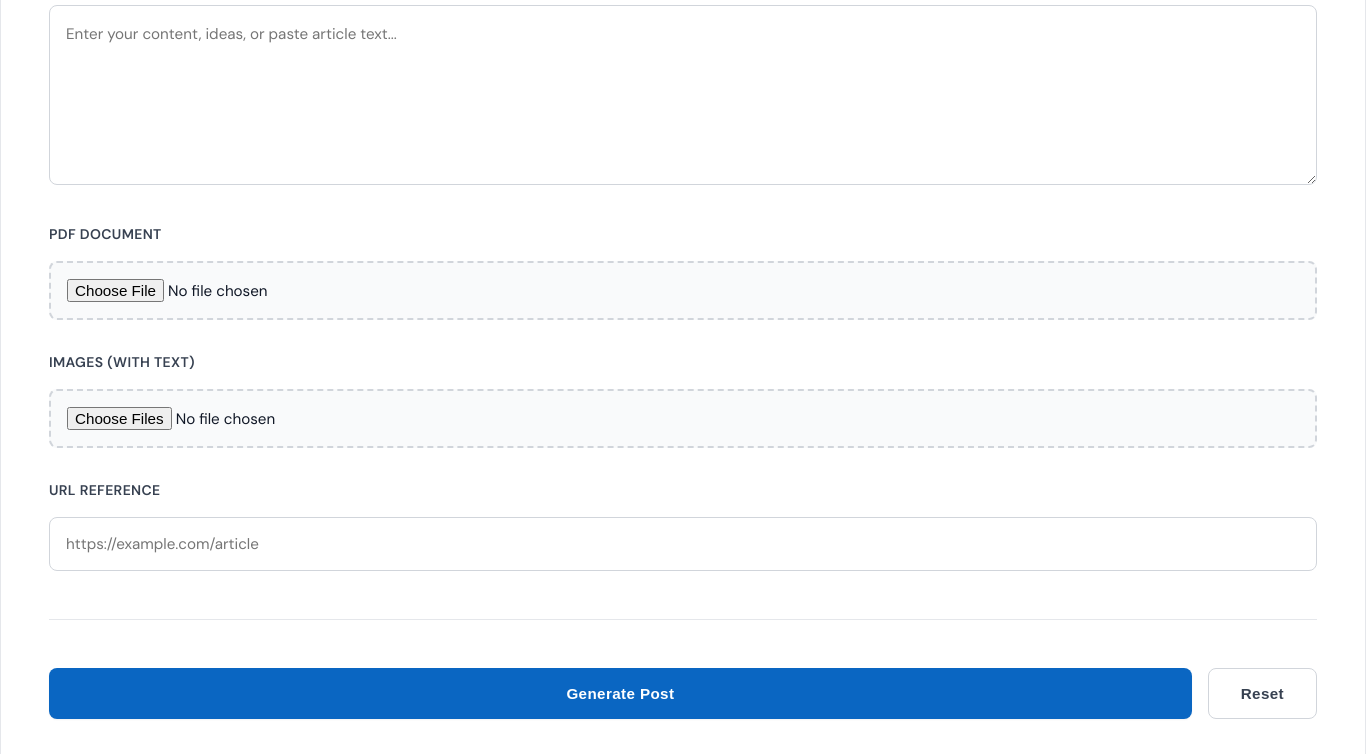
shows error message on empty submit
(page scrolled)
Click the button "Generate Post" at x=620, y=694, box [49,668,1192,719]
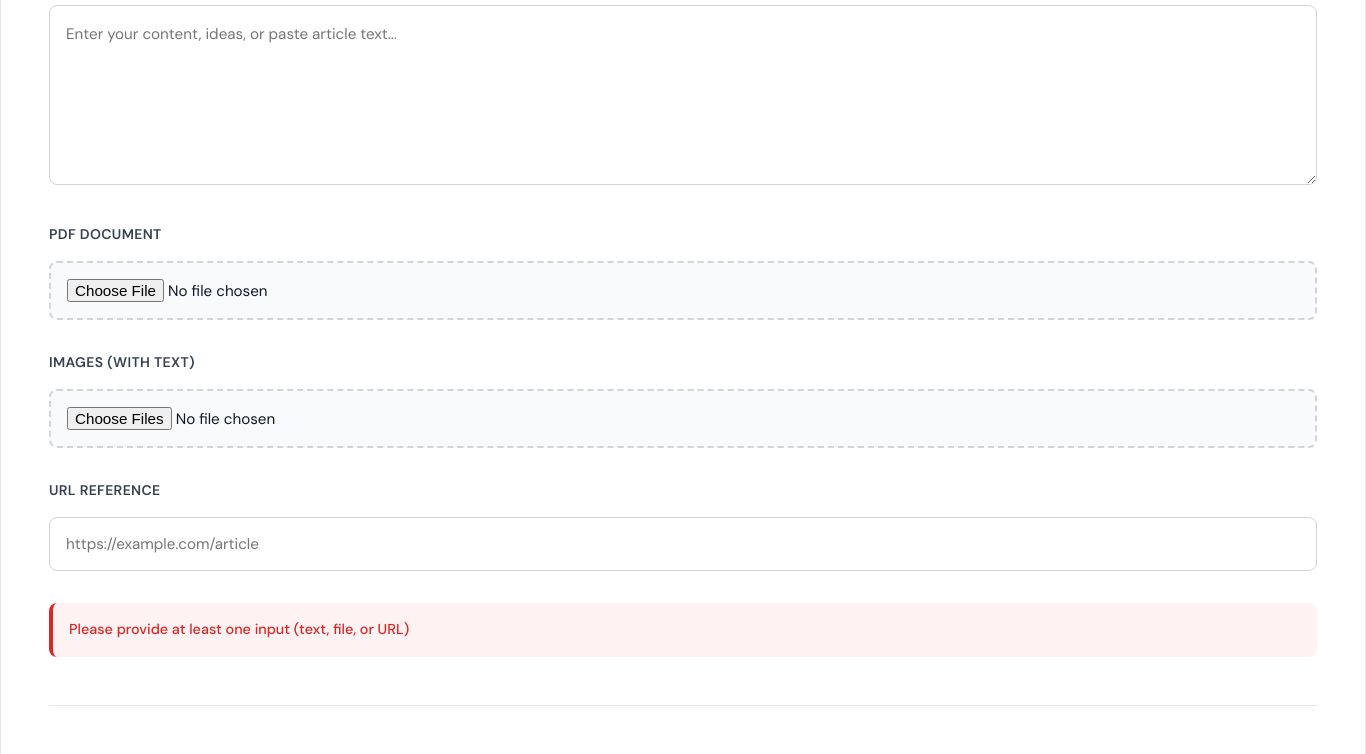
Check: the text "Please provide at least one input (text, file, or URL)" is shown, box [49,603,1317,657]
